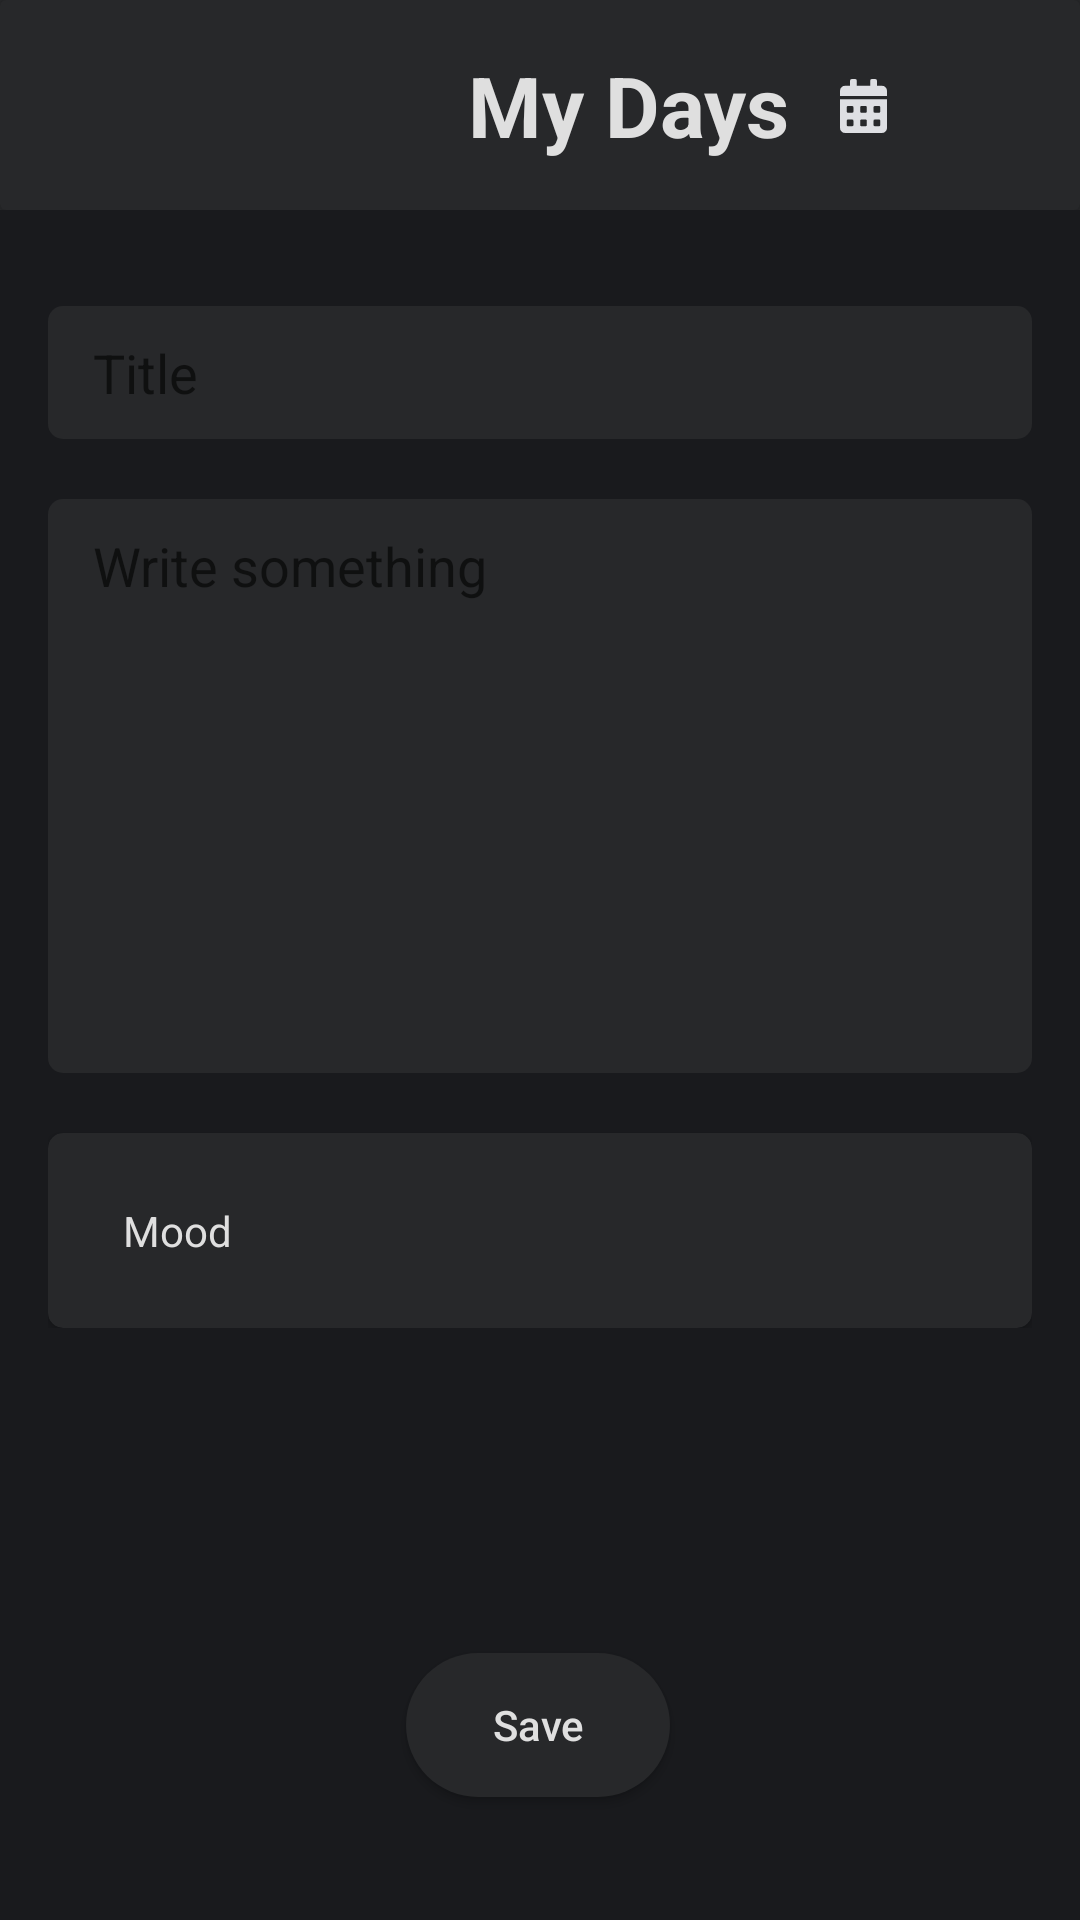

Named icons in this screenshot (1080×1920) and their bounding boxes, (x1, y1, x2, y2):
awesome calendar: (840, 79, 887, 133)
